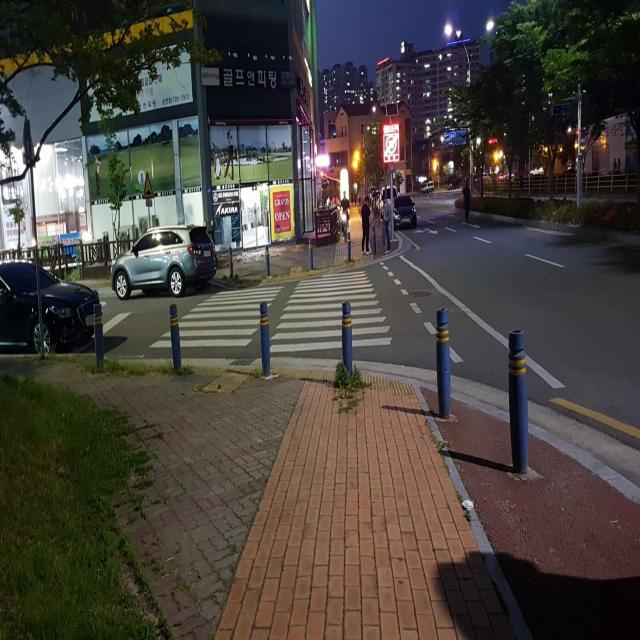횡단보도: (148, 268, 393, 354)
